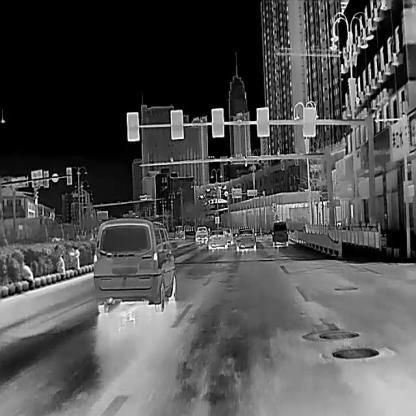car: (91, 215, 175, 311), (235, 227, 256, 250), (271, 221, 288, 245), (209, 229, 226, 248), (194, 225, 209, 241), (222, 227, 233, 243)
